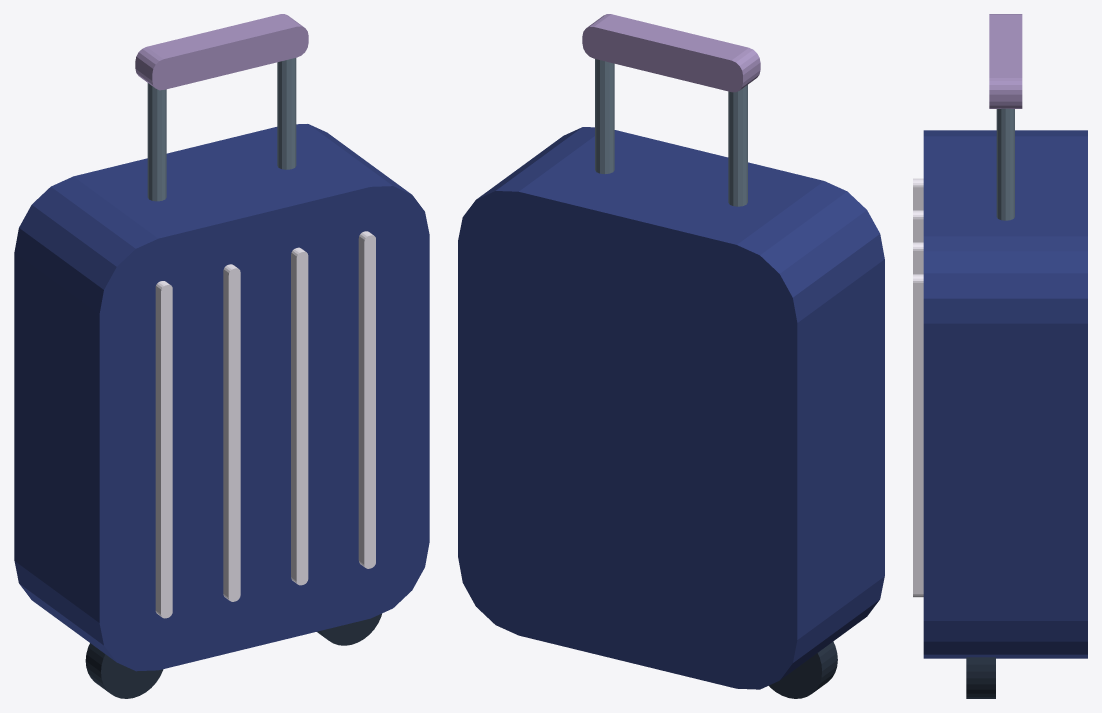
File: suitcase.glb
3 views of the same model, side by side, from view 1: azimuth 30°, elevation 25°; view 2: azimuth 150°, elevation 25°; view 3: azimuth 270°, elevation 25° (orthographic). The views are drawn at different scales.
Parts seen in each view (by area): view 1: hard shell, handle grip, rib 1, rib 0, rib 2, rib 3, telescopic -0.22, telescopic 0.22, caster -0.37, caster 0.37; view 2: hard shell, handle grip, telescopic -0.22, telescopic 0.22, caster -0.37; view 3: hard shell, rib 3, handle grip, telescopic 0.22, caster 0.37, rib 0, rib 1, rib 2.
Part boxes in pixels (left/top/right/bottom): hard shell: left=14, top=124, right=429, bottom=671; handle grip: left=135, top=14, right=308, bottom=90; rib 1: left=223, top=264, right=240, bottom=601; rib 0: left=155, top=281, right=172, bottom=618; rib 2: left=291, top=247, right=308, bottom=585; rib 3: left=358, top=231, right=375, bottom=568; telescopic -0.22: left=147, top=83, right=166, bottom=201; telescopic 0.22: left=277, top=58, right=296, bottom=169; caster -0.37: left=85, top=643, right=163, bottom=698; caster 0.37: left=317, top=613, right=381, bottom=645; hard shell: left=458, top=127, right=884, bottom=689; handle grip: left=582, top=14, right=760, bottom=92; telescopic -0.22: left=728, top=85, right=747, bottom=206; telescopic 0.22: left=595, top=59, right=614, bottom=174; caster -0.37: left=769, top=641, right=837, bottom=698; hard shell: left=923, top=130, right=1087, bottom=658; rib 3: left=913, top=274, right=923, bottom=597; handle grip: left=989, top=14, right=1022, bottom=108; telescopic 0.22: left=996, top=108, right=1014, bottom=220; caster 0.37: left=966, top=657, right=995, bottom=698; rib 0: left=913, top=178, right=923, bottom=210; rib 1: left=913, top=210, right=923, bottom=242; rib 2: left=913, top=242, right=923, bottom=274.
Bounding box in the file's own units: 1.12 × 2.01 × 0.5325.
